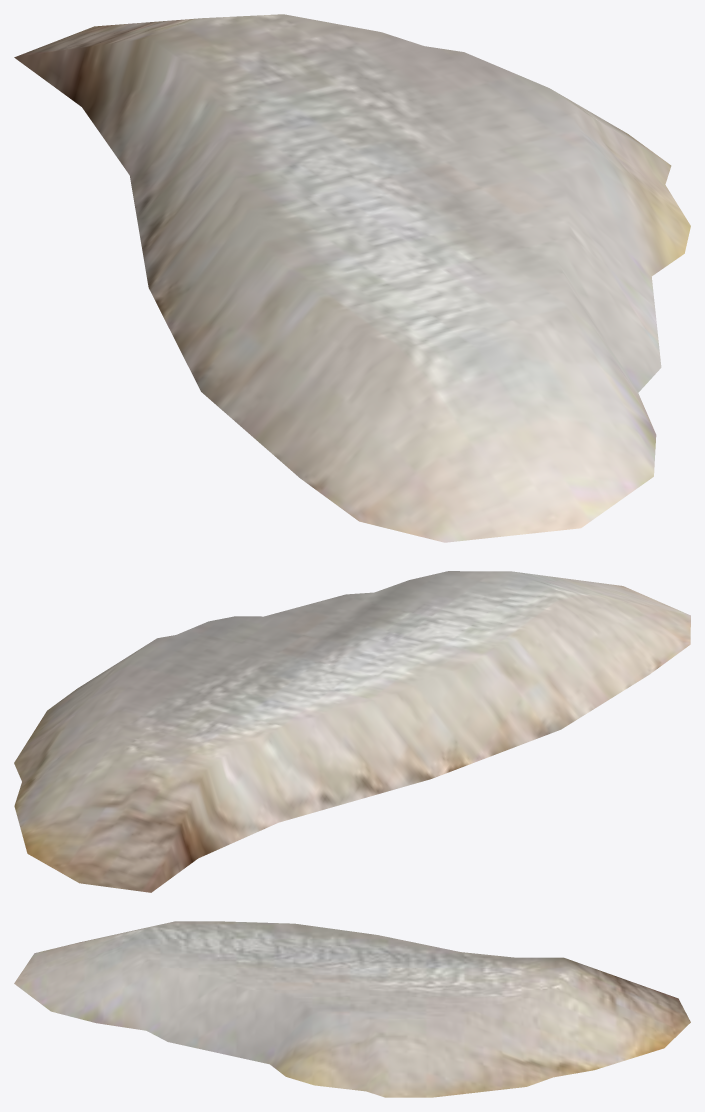
Rendered from chicken_wing.dae.
3 views of the same model, one above another, from view 1: azimuth 30°, elevation 25°; view 2: azimuth 150°, elevation 25°; view 3: azimuth 270°, elevation 25° (orthographic). The views are drawn at different scales.
Visible parts, largest first — view 1: Component_83; view 2: Component_83; view 3: Component_83.
Boxes of the visible parts, <box> form: Component_83: <box>14,14,690,542</box>; Component_83: <box>14,571,690,892</box>; Component_83: <box>14,921,690,1097</box>.
Size of the model in its own units: 2.6 by 4.78 by 0.375.
1 material, 1 textured.
